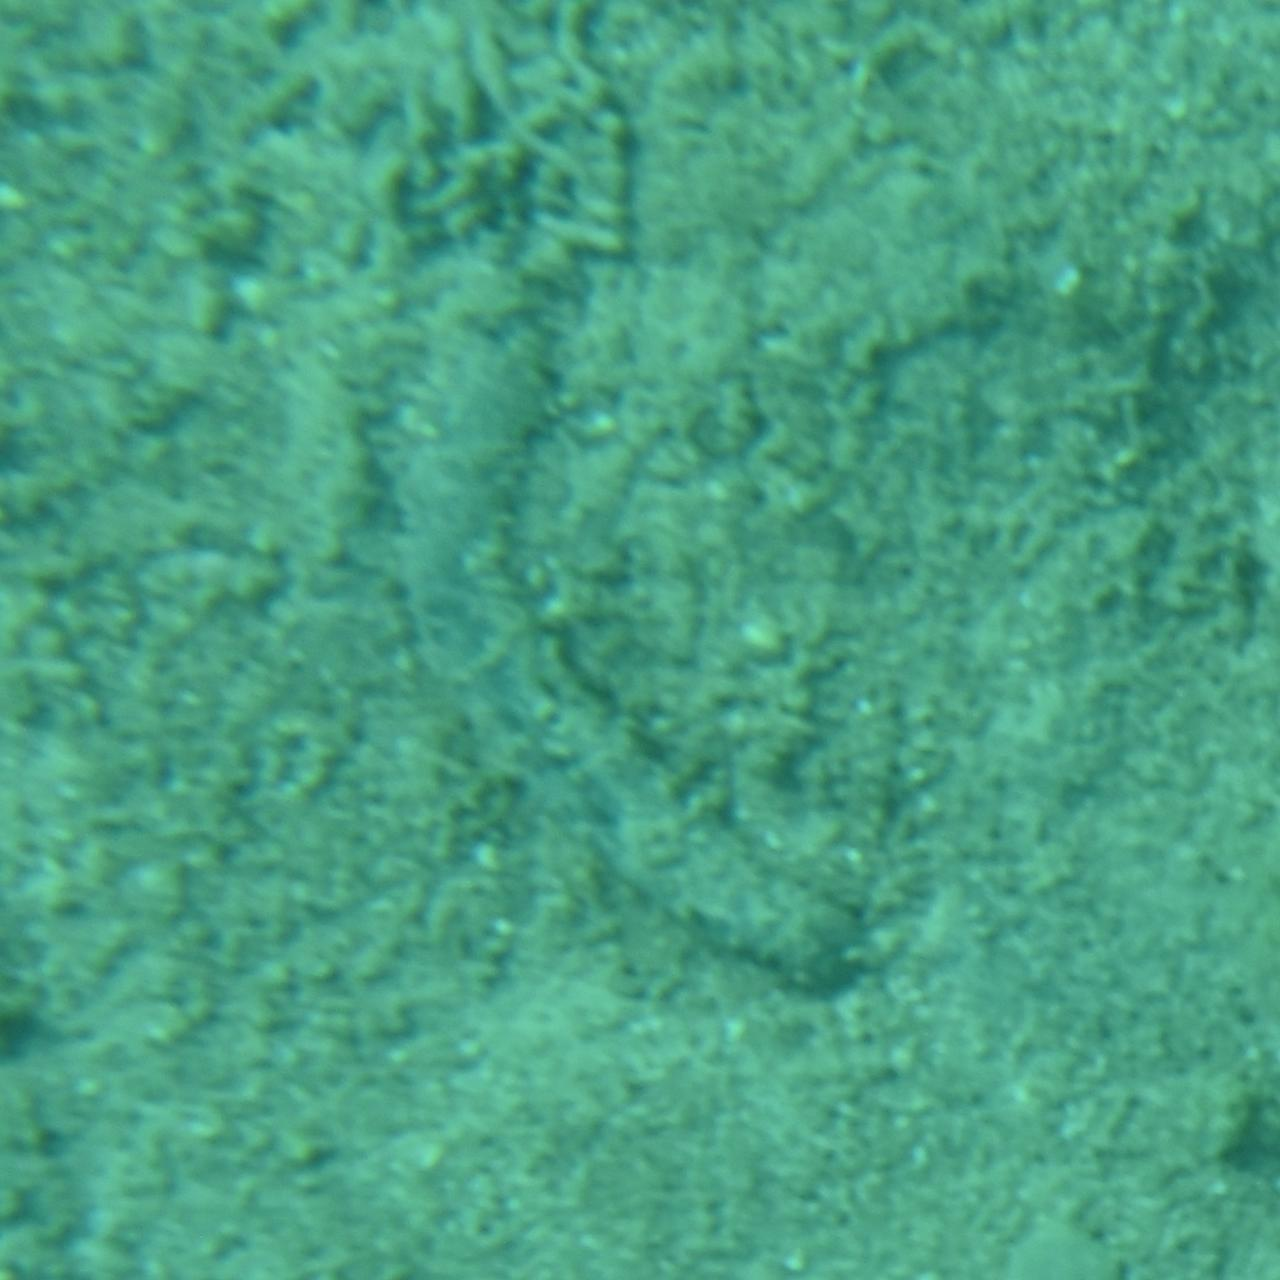Holothuria tubulosa: (394, 264, 886, 1016)
